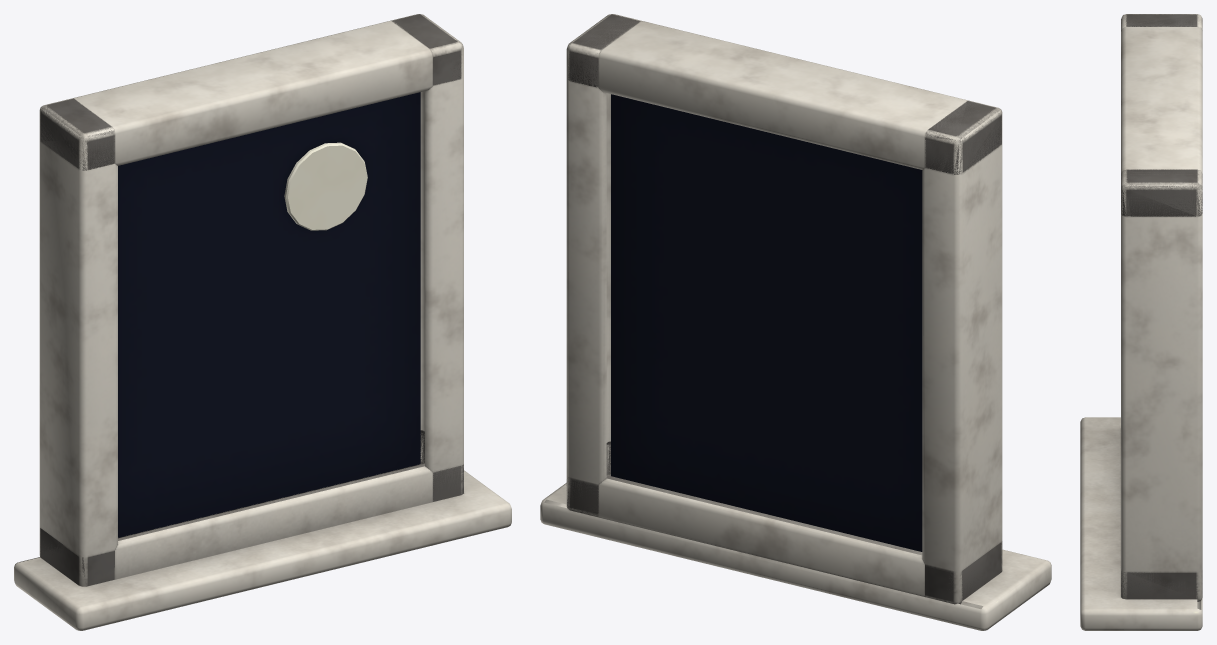
File: moon_window.fbx
3 views of the same model, side by side, from view 1: azimuth 30°, elevation 25°; view 2: azimuth 150°, elevation 25°; view 3: azimuth 270°, elevation 25° (orthographic). The views are drawn at different scales.
Parts seen in each view (by area): view 1: Body, Glow; view 2: Body; view 3: Body.
Part boxes in pixels (x1,y1,x2,y2): Body: (14, 14, 511, 630); Glow: (284, 142, 367, 230); Body: (540, 14, 1051, 630); Body: (1080, 14, 1202, 630).
Size of the model in its own units: 3.4 by 3.54 by 0.9.
Materials: 1 (1 with a texture image).
